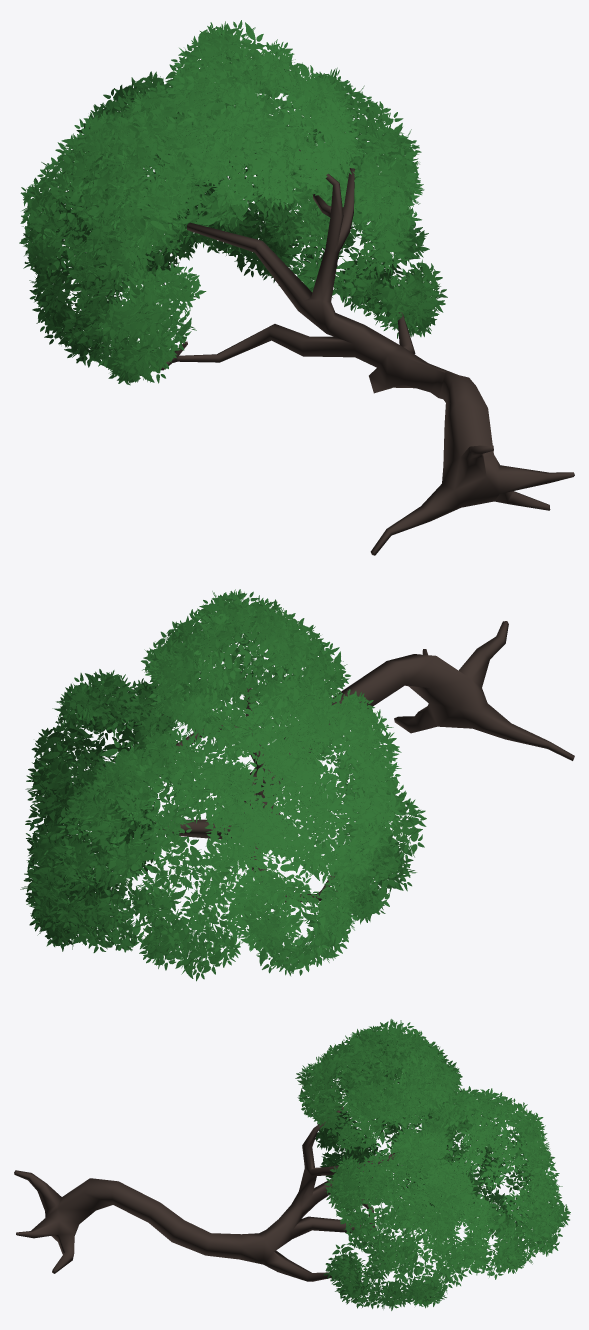
Rendered from Tree3.fbx.
3 views of the same model, one above another, from view 1: azimuth 30°, elevation 25°; view 2: azimuth 150°, elevation 25°; view 3: azimuth 270°, elevation 25° (orthographic). The views are drawn at different scales.
Visible parts, largest first — view 1: Leaves.003; view 2: Leaves.003; view 3: Leaves.003.
Part boxes in pixels (left/top/right/bottom): Leaves.003: left=19, top=20, right=574, bottom=555; Leaves.003: left=20, top=589, right=574, bottom=981; Leaves.003: left=14, top=1019, right=570, bottom=1310.
Size of the model in its own units: 424 by 349 by 747.
Materials: 2 (1 with a texture image).
